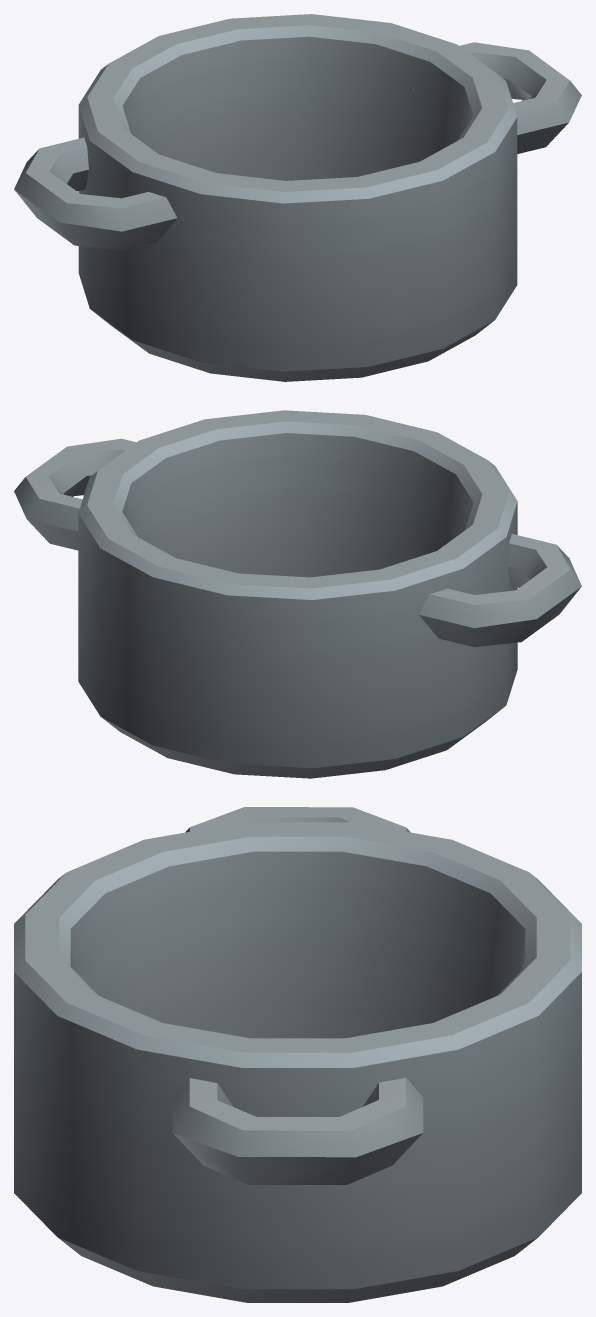
The model's file is pot.glb.
3 renders of one model, top to bottom at view 1: azimuth 30°, elevation 25°; view 2: azimuth 150°, elevation 25°; view 3: azimuth 270°, elevation 25°, orthographic. The views are drawn at different scales.
Parts seen in each view (by area): view 1: pot_A; view 2: pot_A; view 3: pot_A.
Part boxes in pixels (x1,y1,x2,y2): pot_A: [14, 14, 581, 381]; pot_A: [14, 410, 581, 778]; pot_A: [14, 807, 581, 1302].
Size of the model in its own units: 1.4 by 0.5 by 1.
Materials: 1 (1 with a texture image).
